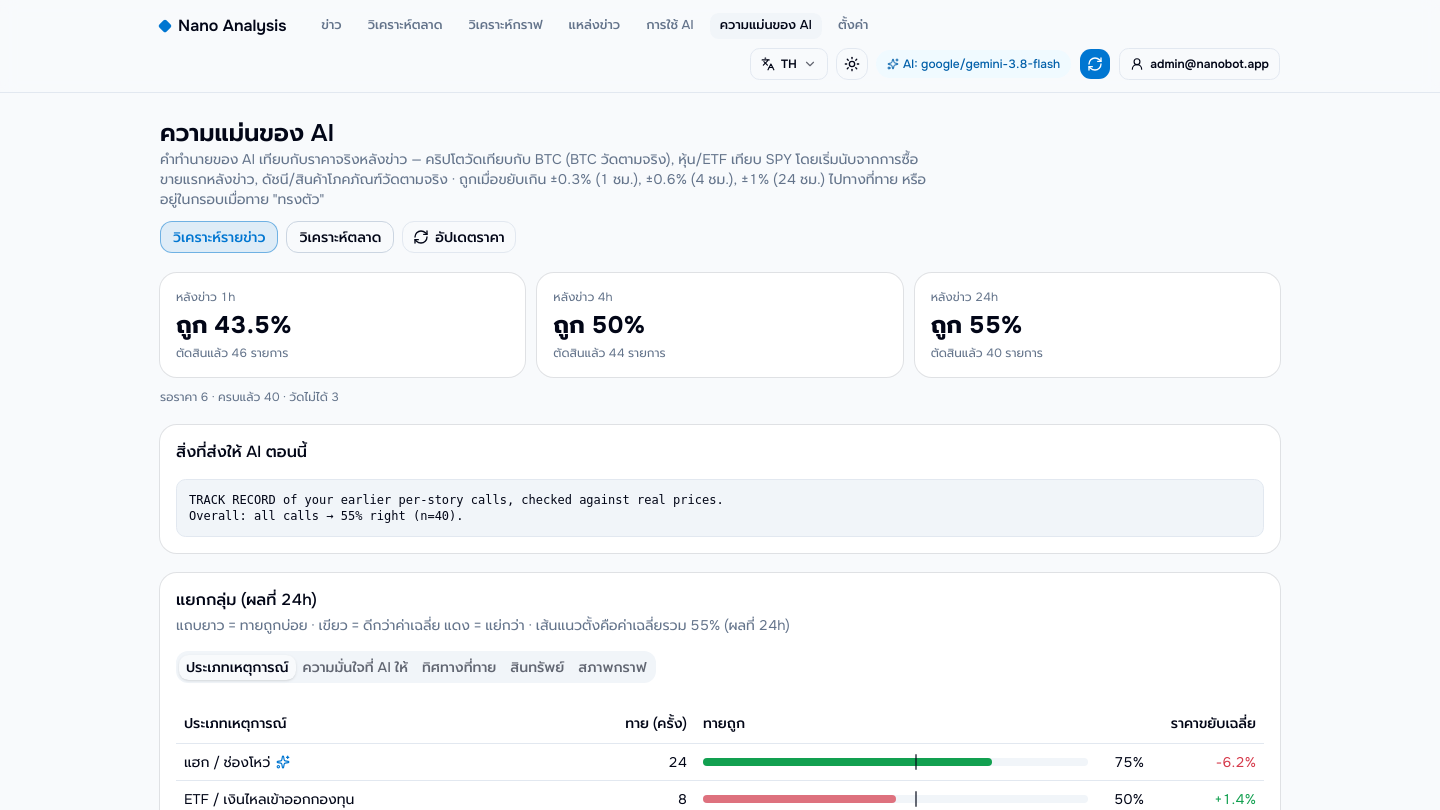
Test: AccuracyPage › groups by chart setup for reading only (never sent to the AI)
This screenshot has width=1440, height=810.
Click the tab "สภาพกราฟ" at point(612, 667), box [571,654,653,680]
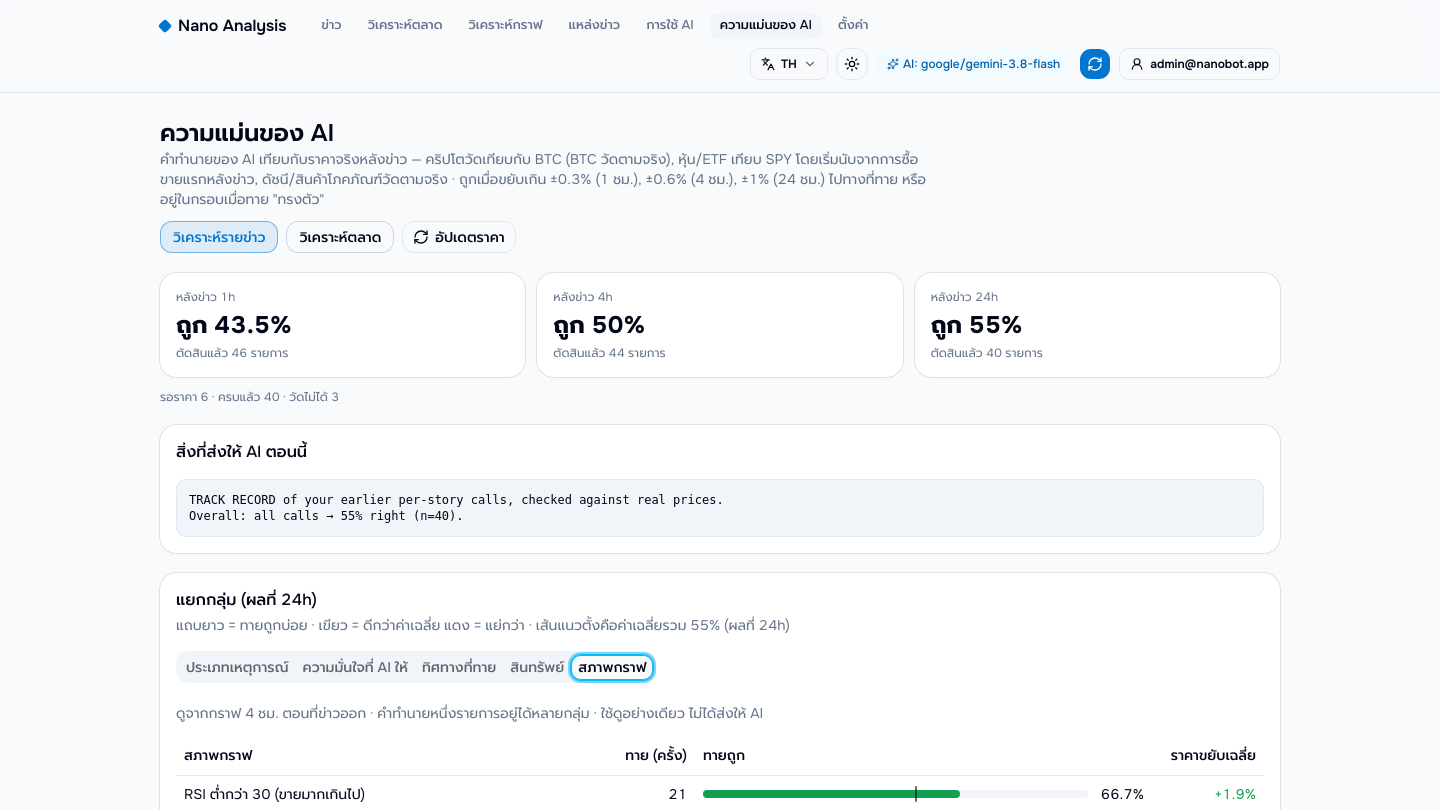
Result: the text "ใช้ดูอย่างเดียว ไม่ได้ส่งให้ AI" is shown at [176,704,763,722]
